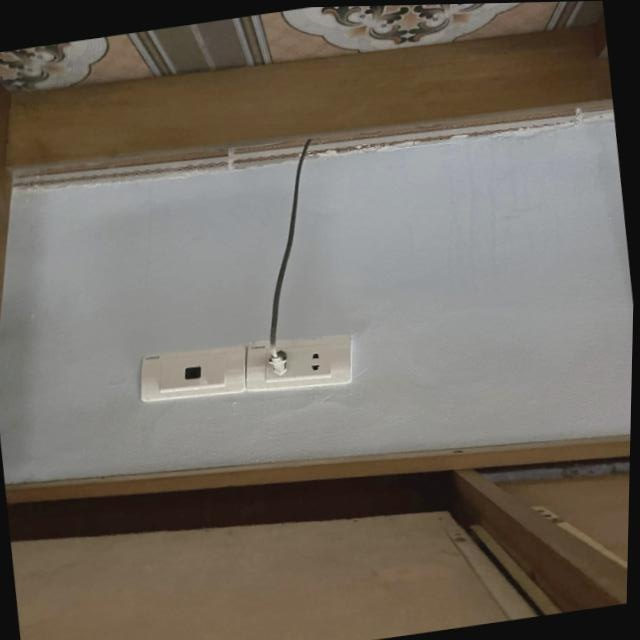outlet: (241, 327, 359, 397), (136, 340, 253, 405)
